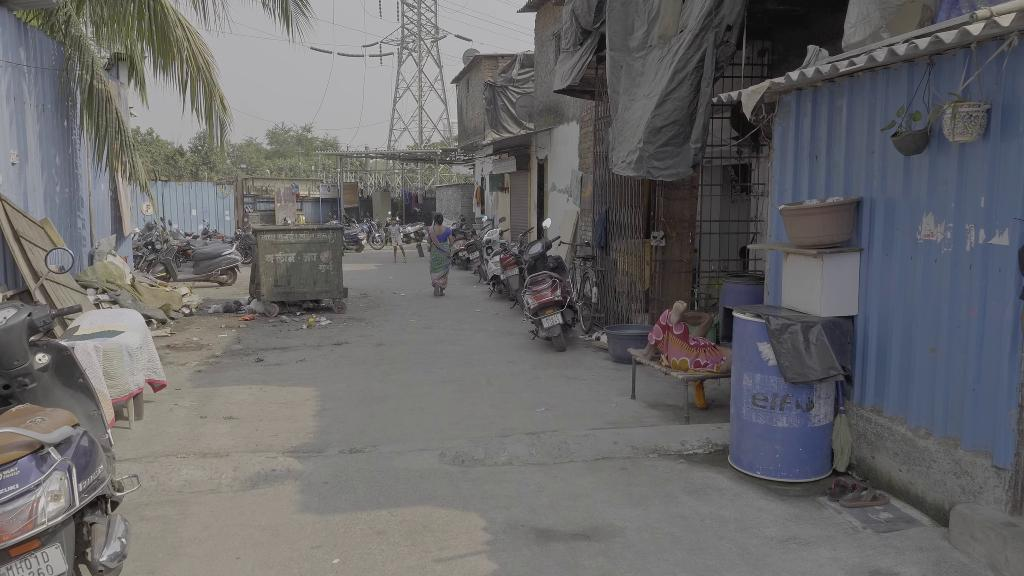dustbin: (251, 218, 351, 315)
